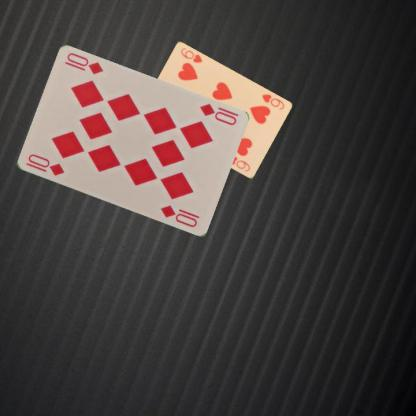10d: (23, 152, 65, 178), (197, 101, 238, 127)
6h: (259, 91, 285, 111)
